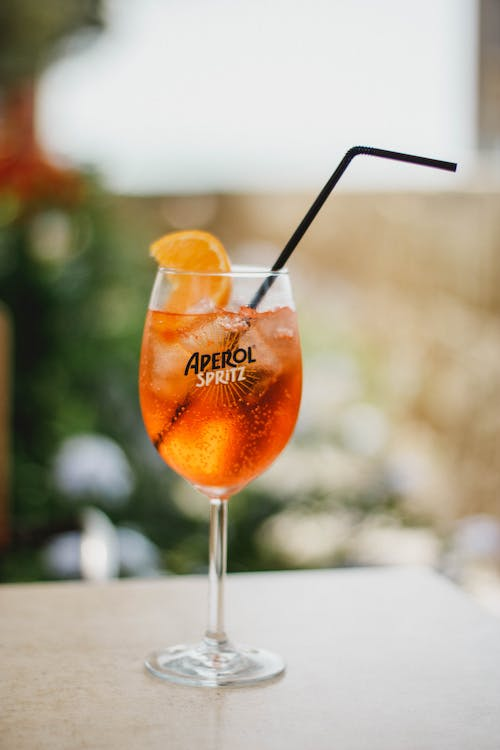alcohol: (138, 263, 303, 687)
